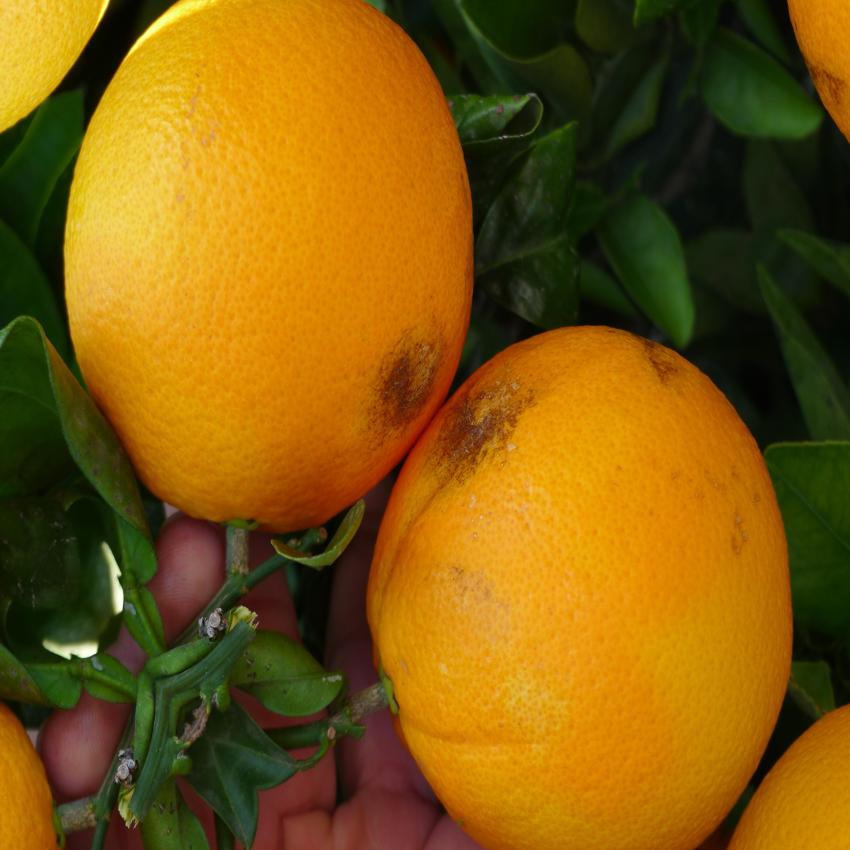Mal estado: (36, 0, 484, 543), (356, 317, 792, 831)
